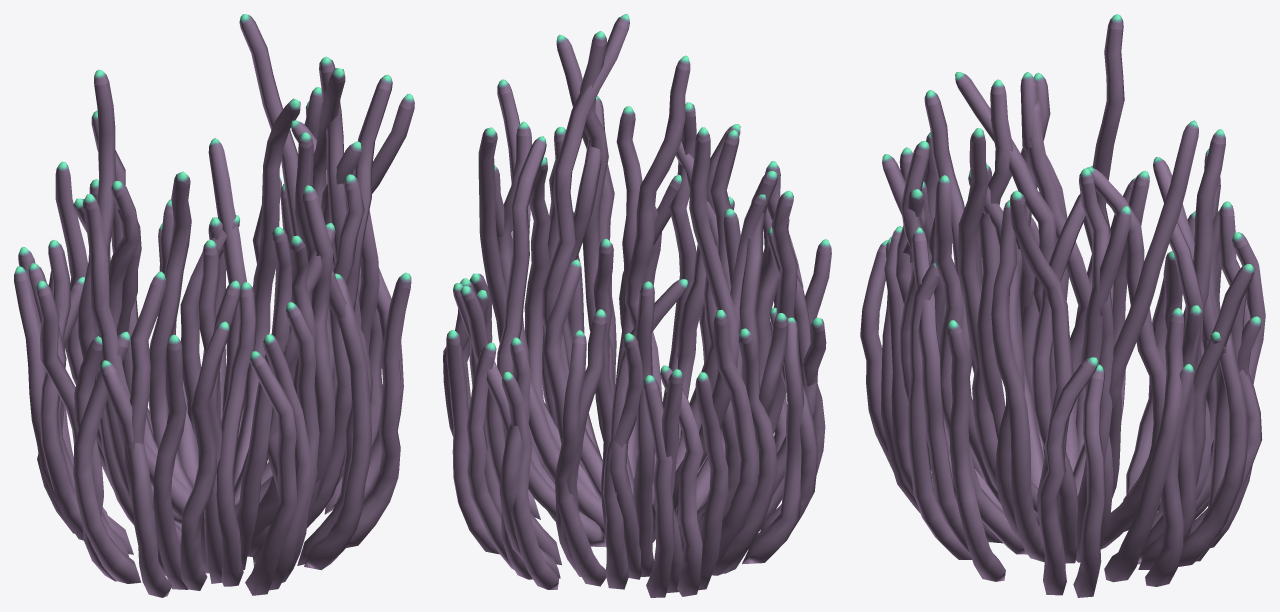
The model's file is Torch01-transformed.glb.
3 views of the same model, side by side, from view 1: azimuth 30°, elevation 25°; view 2: azimuth 150°, elevation 25°; view 3: azimuth 270°, elevation 25° (orthographic). The views are drawn at different scales.
Visible parts, largest first — view 1: Torch01; view 2: Torch01; view 3: Torch01.
Part boxes in pixels (bbox=[...]): Torch01: bbox=[14, 14, 414, 597]; Torch01: bbox=[443, 14, 831, 597]; Torch01: bbox=[860, 14, 1265, 597].
Bounding box in the file's own units: 2.79 × 3.87 × 2.82.
Materials: 1 (1 with a texture image).
